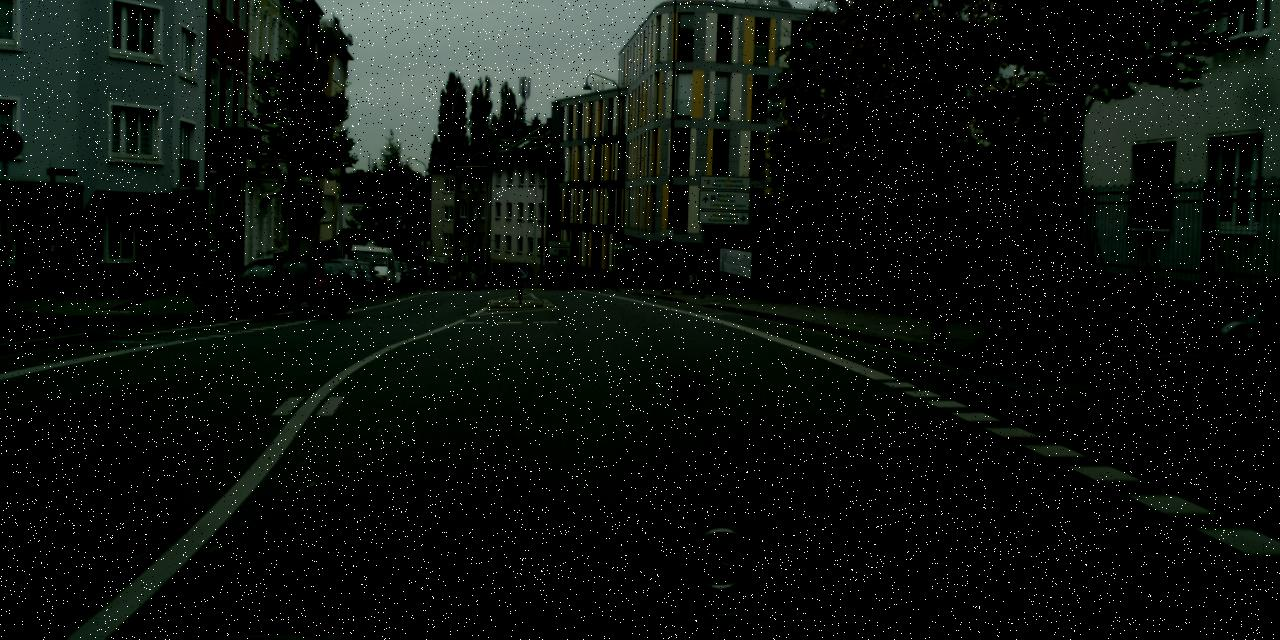ped: (678, 251, 694, 293), (580, 266, 588, 287), (451, 273, 458, 289), (470, 272, 476, 288), (461, 273, 467, 289), (482, 274, 486, 288)
